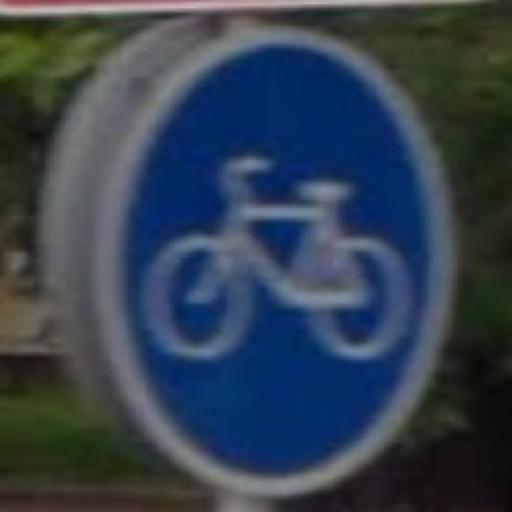traffic_sign: (94, 28, 467, 503)
